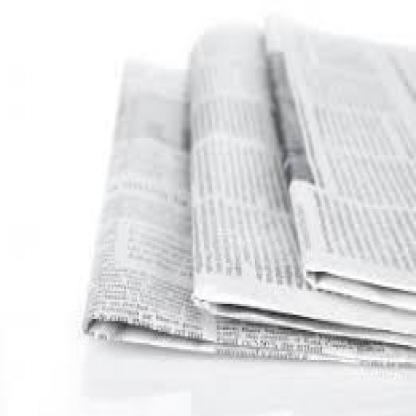trash: (85, 27, 415, 363)
